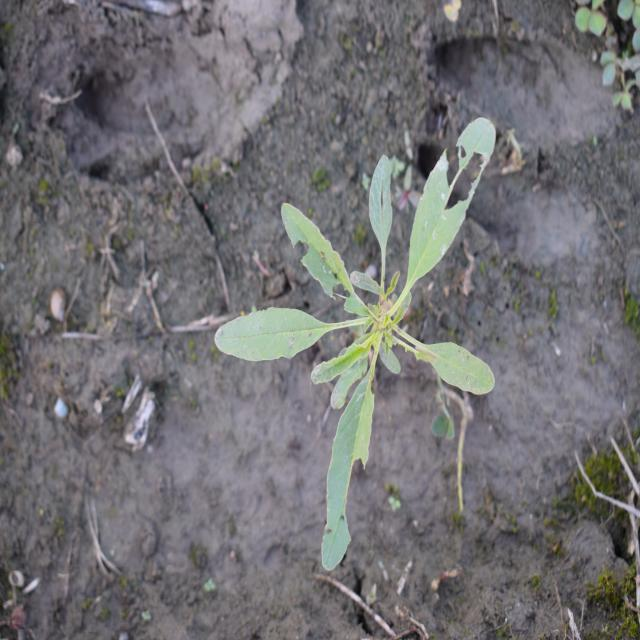Waterhemp: (212, 114, 498, 572)
